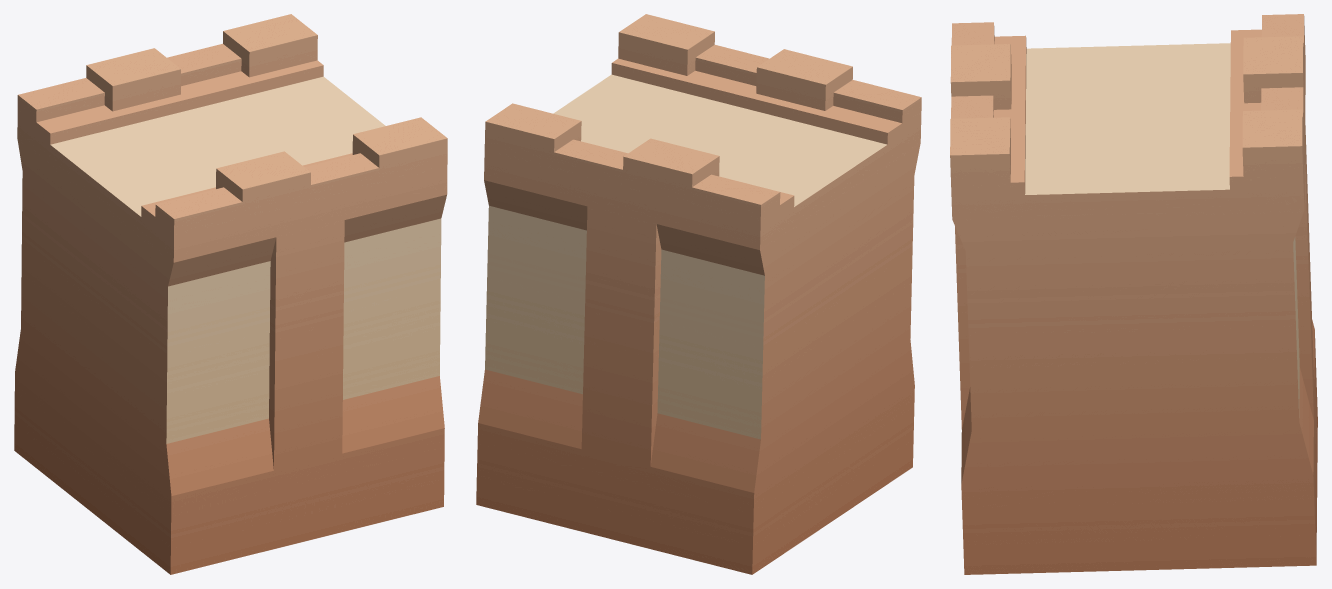
Rendered from wall-pillar.050_lev3.glb.
3 renders of one model, left to right at view 1: azimuth 30°, elevation 25°; view 2: azimuth 150°, elevation 25°; view 3: azimuth 270°, elevation 25°, orthographic. The views are drawn at different scales.
Parts seen in each view (by area): view 1: wall-pillar.050_lev3; view 2: wall-pillar.050_lev3; view 3: wall-pillar.050_lev3.
Part boxes in pixels (x1,y1,x2,y2): wall-pillar.050_lev3: (14, 14, 447, 574); wall-pillar.050_lev3: (476, 14, 921, 574); wall-pillar.050_lev3: (950, 14, 1317, 574).
Size of the model in its own units: 6.02 by 8.01 by 6.2.
Materials: 1 (1 with a texture image).
